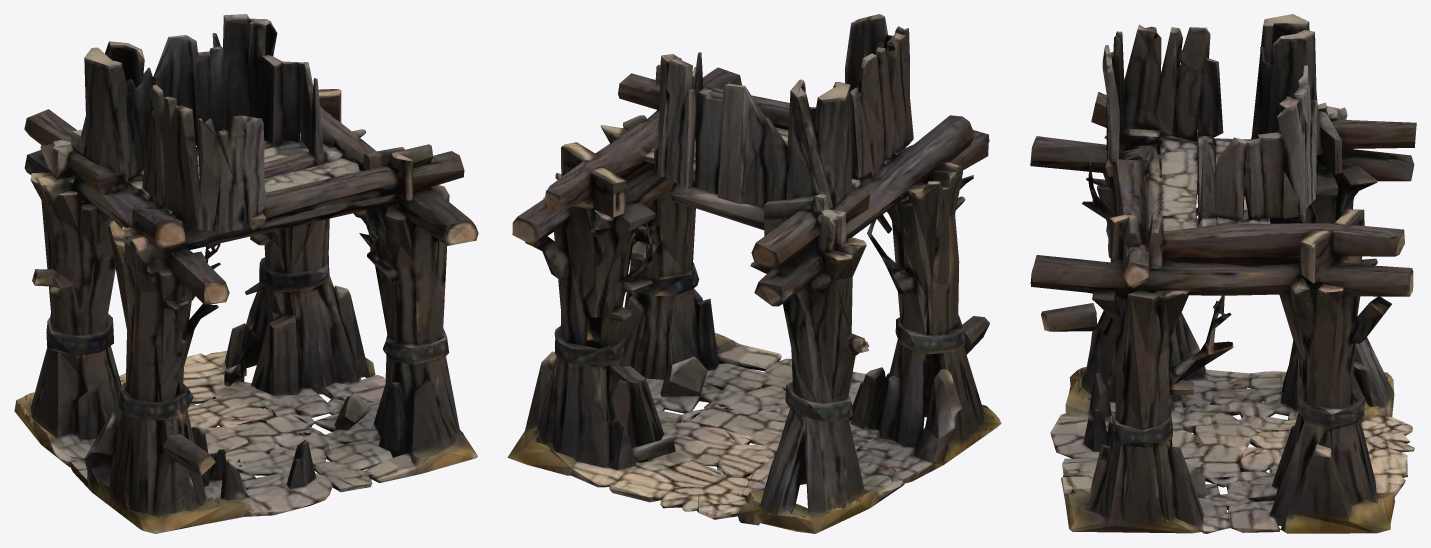
File: orc_fortress_wall_broken_01.glb
3 renders of one model, left to right at view 1: azimuth 30°, elevation 25°; view 2: azimuth 150°, elevation 25°; view 3: azimuth 270°, elevation 25°, orthographic. The views are drawn at different scales.
Parts seen in each view (by area): view 1: geometry_0; view 2: geometry_0; view 3: geometry_0.
Boxes of the visible parts, x1,y1,x2,y2 form: geometry_0: (14, 14, 478, 533); geometry_0: (507, 14, 1001, 533); geometry_0: (1030, 14, 1416, 533).
Size of the model in its own units: 0.9279 by 0.9974 by 0.8984.
Materials: 1 (1 with a texture image).
